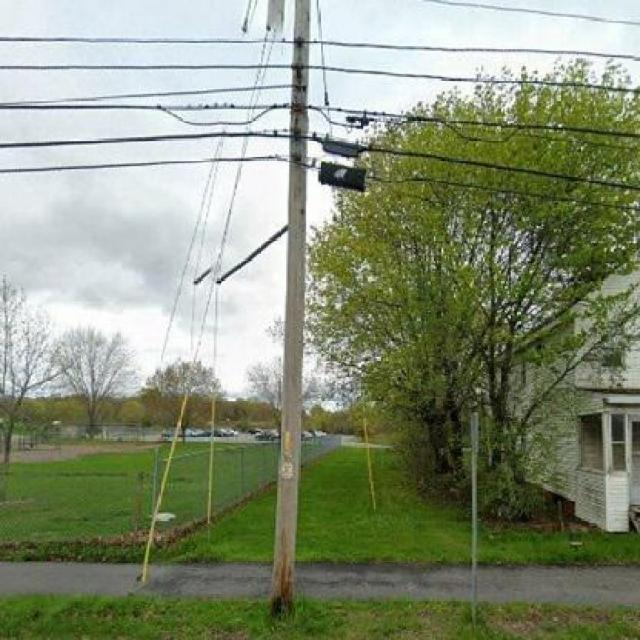pole: (264, 0, 350, 602)
